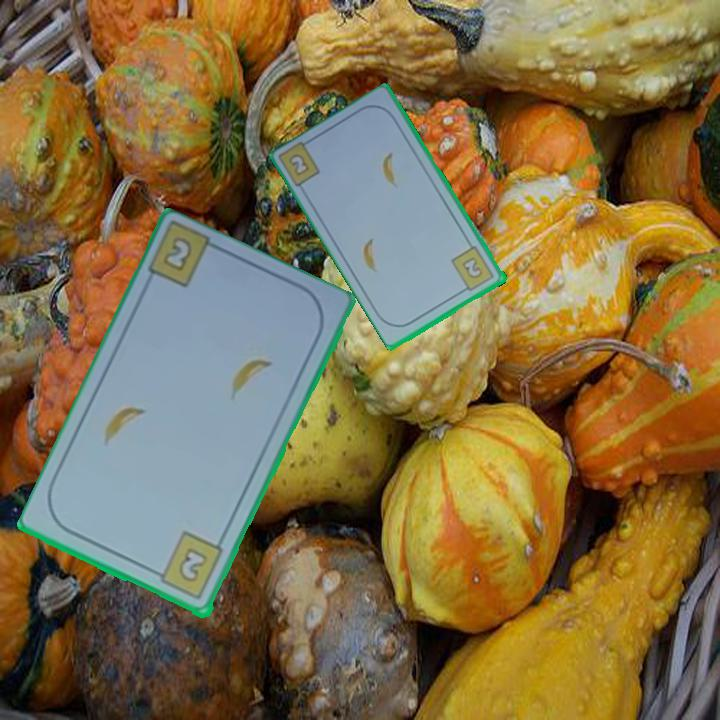2b: (149, 528, 227, 603), (448, 243, 497, 296), (159, 233, 195, 275), (285, 150, 313, 179)
